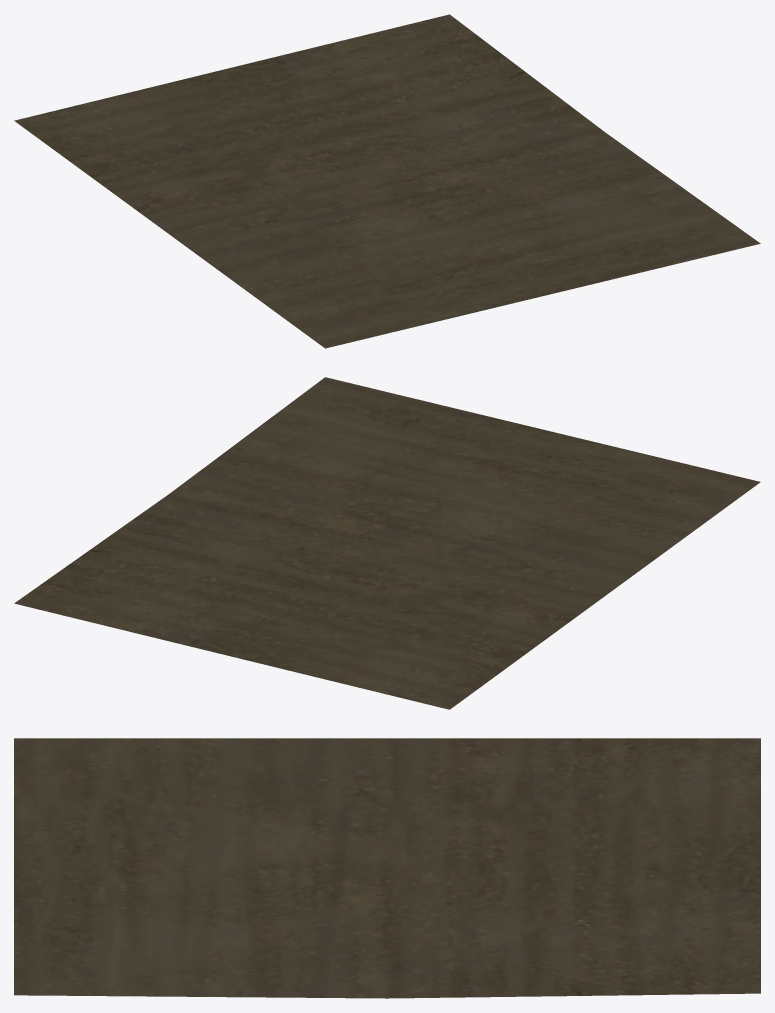
File: blend_path06.fbx
3 views of the same model, one above another, from view 1: azimuth 30°, elevation 25°; view 2: azimuth 150°, elevation 25°; view 3: azimuth 270°, elevation 25° (orthographic). The views are drawn at different scales.
Parts seen in each view (by area): view 1: obj0.016; view 2: obj0.016; view 3: obj0.016.
Part boxes in pixels (box(x1,y1,x2,y2)): obj0.016: box(14, 14, 760, 348); obj0.016: box(14, 377, 760, 709); obj0.016: box(14, 738, 760, 998).
Size of the model in its own units: 4.33 by 0.0388 by 5.36.
